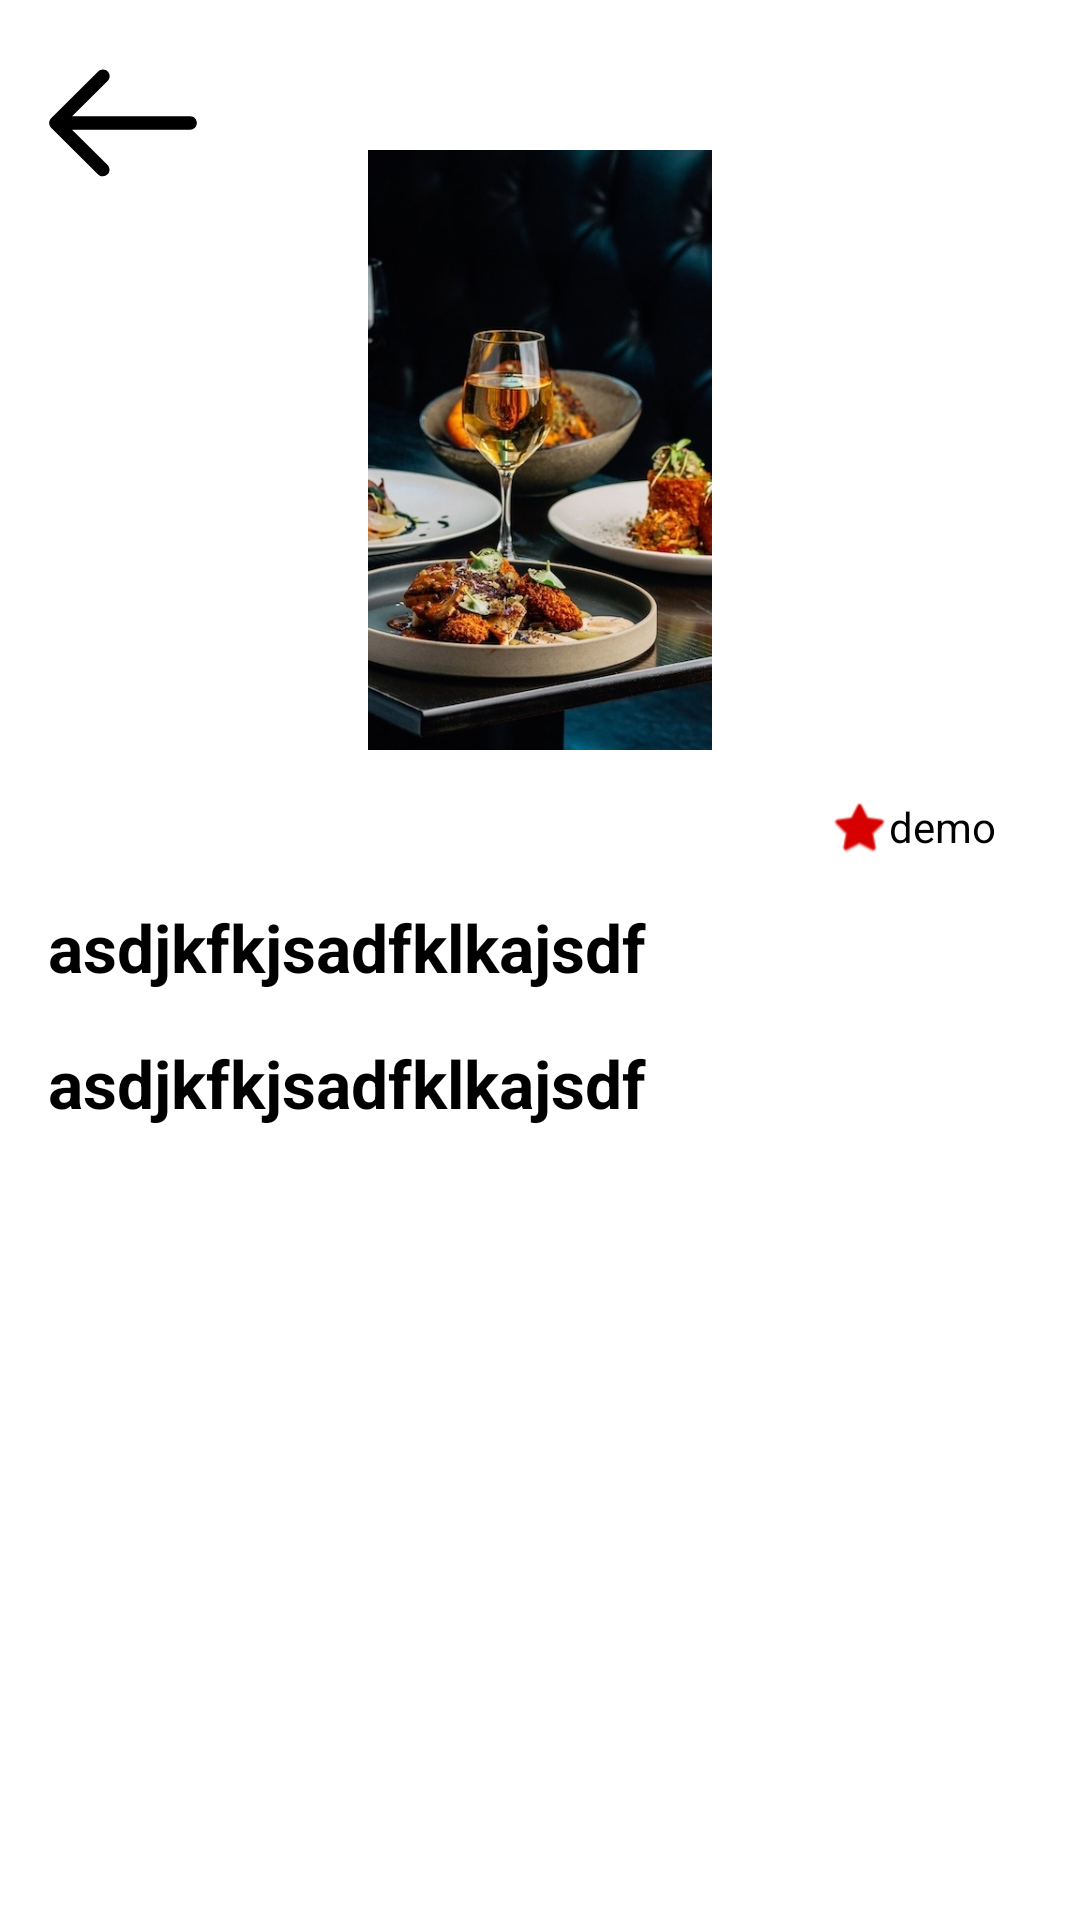

Named icons in this screenshot (1080*1920) and their bounding boxes, (x1, y1, x2, y2):
back arrow: (49, 69, 197, 177)
